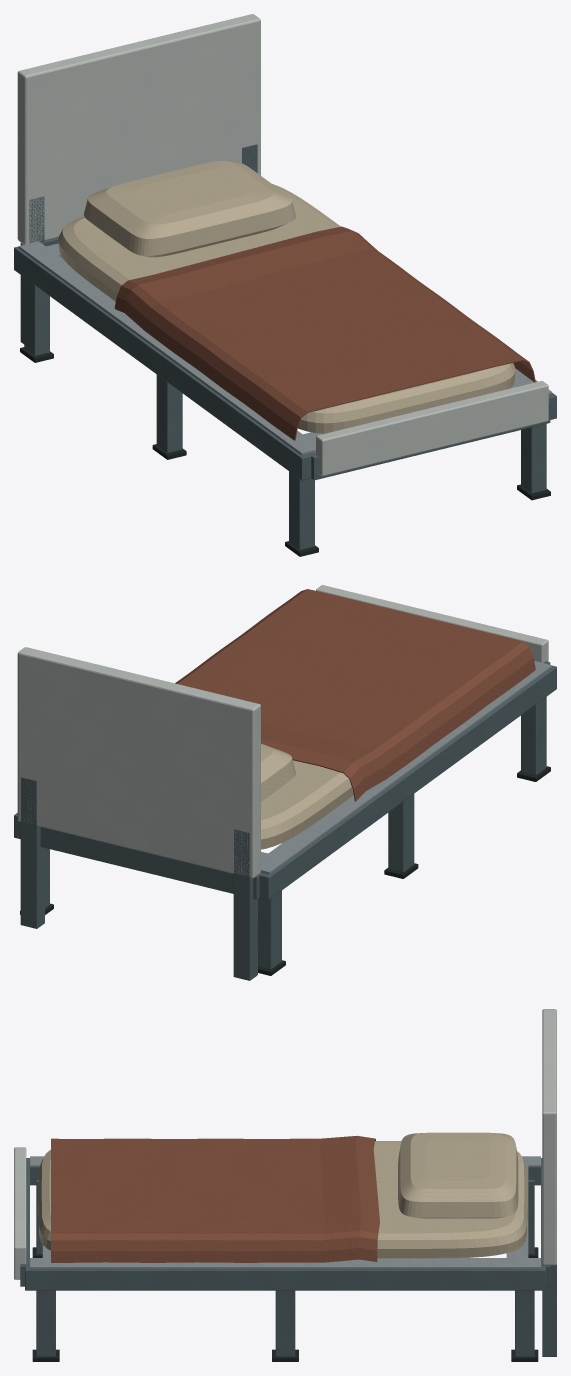
The model's file is AST-CRW-001.glb.
The picture shows the model from 3 angles, top to bottom: view 1: azimuth 30°, elevation 25°; view 2: azimuth 150°, elevation 25°; view 3: azimuth 270°, elevation 25°; orthographic projection. The views are drawn at different scales.
Visible parts, largest first — view 1: AST-CRW-001__STATIC_crew_terracotta_blanket, AST-CRW-001__STATIC_staff_white_paint, AST-CRW-001__STATIC_crew_ecru_sheet, AST-CRW-001__STATIC_staff_bluegrey_paint, AST-CRW-001__STATIC_staff_zinc, AST-CRW-001__STATIC_staff_rubber; view 2: AST-CRW-001__STATIC_staff_white_paint, AST-CRW-001__STATIC_crew_terracotta_blanket, AST-CRW-001__STATIC_staff_bluegrey_paint, AST-CRW-001__STATIC_crew_ecru_sheet, AST-CRW-001__STATIC_staff_zinc, AST-CRW-001__STATIC_staff_rubber; view 3: AST-CRW-001__STATIC_crew_terracotta_blanket, AST-CRW-001__STATIC_crew_ecru_sheet, AST-CRW-001__STATIC_staff_bluegrey_paint, AST-CRW-001__STATIC_staff_zinc, AST-CRW-001__STATIC_staff_white_paint, AST-CRW-001__STATIC_staff_rubber.
Boxes of the visible parts, x1,y1,x2,y2 form: AST-CRW-001__STATIC_crew_terracotta_blanket: (114, 226, 535, 440); AST-CRW-001__STATIC_staff_white_paint: (17, 14, 548, 476); AST-CRW-001__STATIC_crew_ecru_sheet: (58, 161, 515, 433); AST-CRW-001__STATIC_staff_bluegrey_paint: (14, 144, 556, 550); AST-CRW-001__STATIC_staff_zinc: (19, 241, 551, 455); AST-CRW-001__STATIC_staff_rubber: (20, 347, 550, 556); AST-CRW-001__STATIC_staff_white_paint: (17, 585, 548, 878); AST-CRW-001__STATIC_crew_terracotta_blanket: (175, 589, 535, 801); AST-CRW-001__STATIC_staff_bluegrey_paint: (14, 661, 556, 980); AST-CRW-001__STATIC_crew_ecru_sheet: (261, 614, 416, 849); AST-CRW-001__STATIC_staff_zinc: (261, 661, 551, 874); AST-CRW-001__STATIC_staff_rubber: (20, 766, 550, 975); AST-CRW-001__STATIC_crew_terracotta_blanket: (51, 1135, 379, 1262); AST-CRW-001__STATIC_crew_ecru_sheet: (38, 1132, 527, 1258); AST-CRW-001__STATIC_staff_bluegrey_paint: (20, 1158, 556, 1356); AST-CRW-001__STATIC_staff_zinc: (30, 1156, 540, 1269); AST-CRW-001__STATIC_staff_white_paint: (14, 1009, 556, 1279); AST-CRW-001__STATIC_staff_rubber: (32, 1247, 538, 1361).
Bounding box in the file's own units: 1.08 × 1.1 × 2.2.
6 materials, 6 textured.
